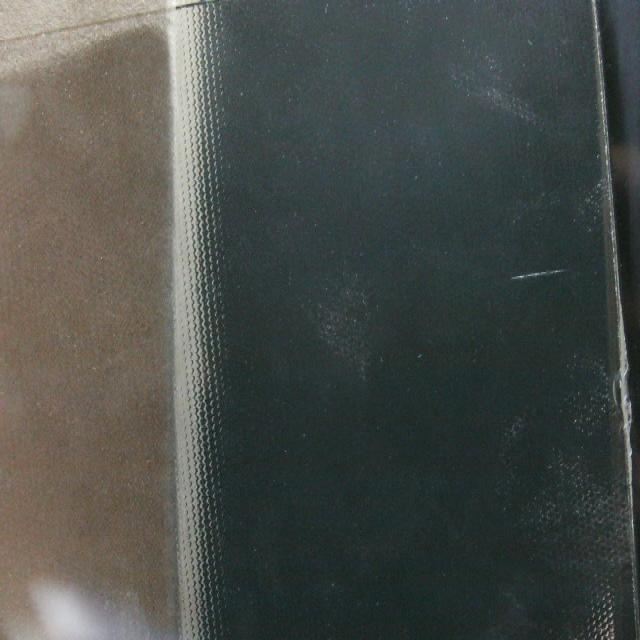edge_chip: (612, 293, 638, 487)
scratch: (501, 260, 581, 287)
